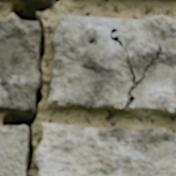brick: (48, 16, 175, 116), (35, 124, 175, 175), (0, 15, 39, 112), (0, 126, 27, 175)
crack: (0, 0, 59, 175), (109, 27, 165, 111)
